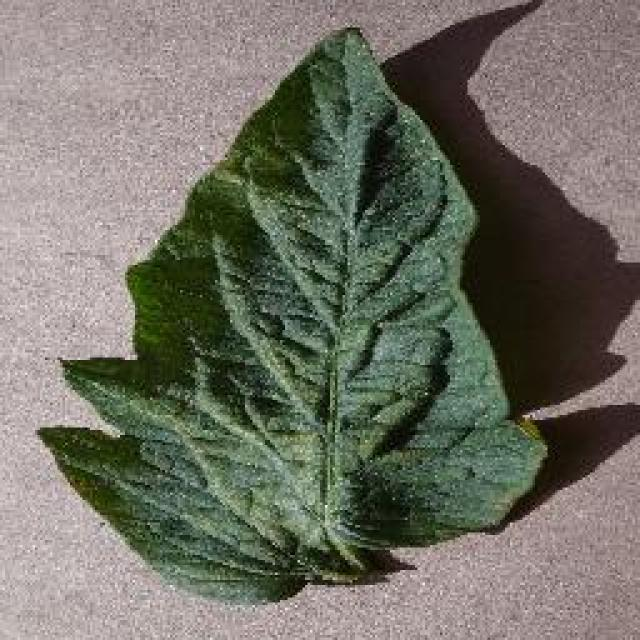Tomato___Spider_mites Two-spotted_spider_mite: (40, 28, 545, 600)
